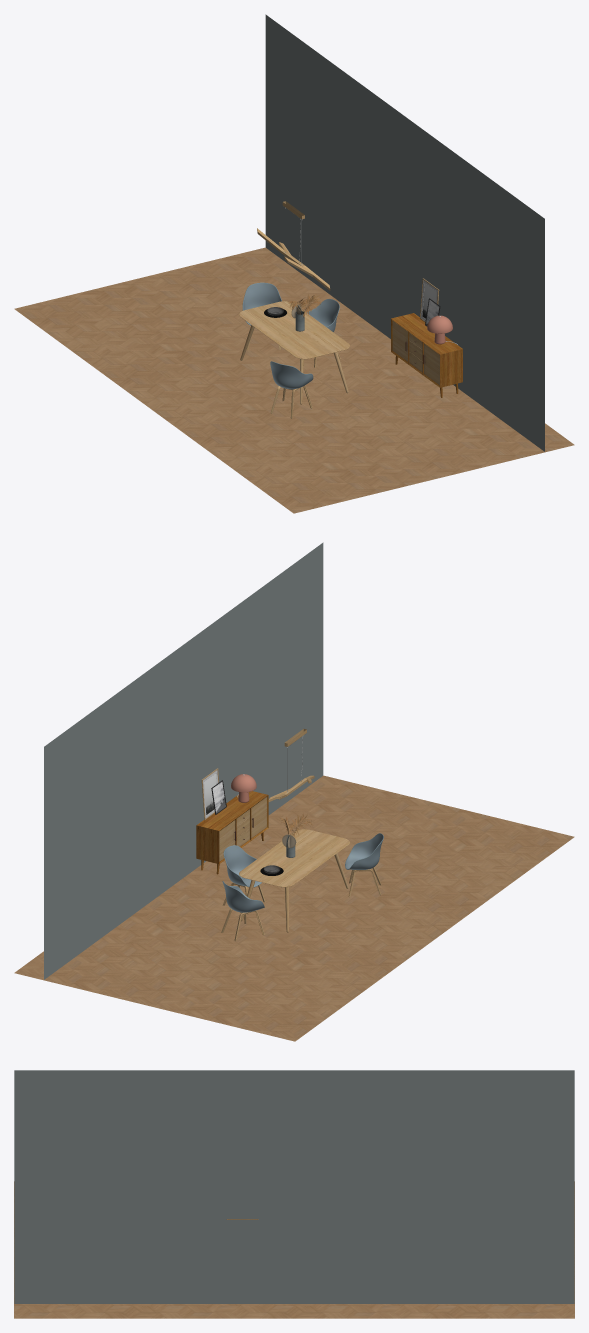
Rendered from free_dining_set_scandinavian_style.glb.
The picture shows the model from 3 angles, top to bottom: view 1: azimuth 30°, elevation 25°; view 2: azimuth 150°, elevation 25°; view 3: azimuth 270°, elevation 25°; orthographic projection.
Visible parts, largest first — view 1: FLOOR, WALL, TABLE, SIDE_BOARD, AAC_CHAIR_02, AAC_CHAIR, LIGHT_PENDANT, AAC_CHAIR_01; view 2: FLOOR, WALL, TABLE, SIDE_BOARD, AAC_CHAIR_02, AAC_CHAIR_01, AAC_CHAIR; view 3: WALL, FLOOR.
Boxes of the visible parts, <box> form: FLOOR: <box>14,247,574,513</box>; WALL: <box>265,14,544,451</box>; TABLE: <box>239,301,349,404</box>; SIDE_BOARD: <box>391,313,462,397</box>; AAC_CHAIR_02: <box>270,361,313,418</box>; AAC_CHAIR: <box>242,282,281,350</box>; LIGHT_PENDANT: <box>257,201,330,290</box>; AAC_CHAIR_01: <box>307,299,340,367</box>; FLOOR: <box>14,775,574,1041</box>; WALL: <box>44,542,323,979</box>; TABLE: <box>239,829,349,932</box>; SIDE_BOARD: <box>196,791,268,874</box>; AAC_CHAIR_02: <box>345,833,383,897</box>; AAC_CHAIR_01: <box>222,845,265,914</box>; AAC_CHAIR: <box>221,881,264,941</box>; WALL: <box>14,1070,574,1303</box>; FLOOR: <box>14,1181,574,1318</box>.
Size of the model in its own units: 4.7 by 3.73 by 8.1.
12 materials, 11 textured.
